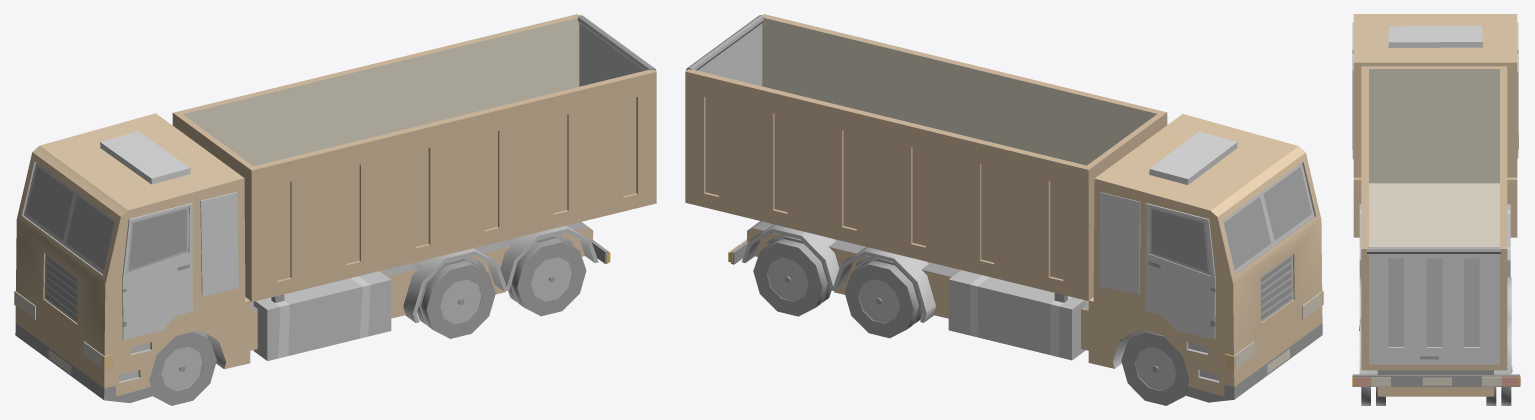
File: kar10.fbx
The picture shows the model from 3 angles, left to right: view 1: azimuth 30°, elevation 25°; view 2: azimuth 150°, elevation 25°; view 3: azimuth 270°, elevation 25°; orthographic projection. The views are drawn at different scales.
Parts seen in each view (by area): view 1: Boole, Extrude_1, Cylinder_4, Cylinder_3, Cylinder_1, Boole_2; view 2: Boole, Extrude_2, Cylinder_5, Cylinder, Cylinder_2, Boole_2; view 3: Boole, Boole_2, Cylinder, Cylinder_3.
Part boxes in pixels (x1,y1,x2,y2): Boole: [14, 14, 656, 402]; Extrude_1: [122, 203, 192, 340]; Cylinder_4: [417, 258, 495, 338]; Cylinder_3: [508, 235, 586, 316]; Cylinder_1: [149, 331, 216, 405]; Boole_2: [577, 15, 656, 86]; Boole: [685, 14, 1323, 402]; Extrude_2: [1145, 203, 1215, 339]; Cylinder_5: [844, 258, 922, 338]; Cylinder: [753, 235, 831, 316]; Cylinder_2: [1121, 331, 1189, 405]; Boole_2: [686, 15, 763, 86]; Boole: [1352, 14, 1520, 396]; Boole_2: [1367, 247, 1500, 364]; Cylinder: [1486, 366, 1512, 405]; Cylinder_3: [1361, 387, 1385, 405].
Bounding box in the file's own units: 890 × 333 × 251.
